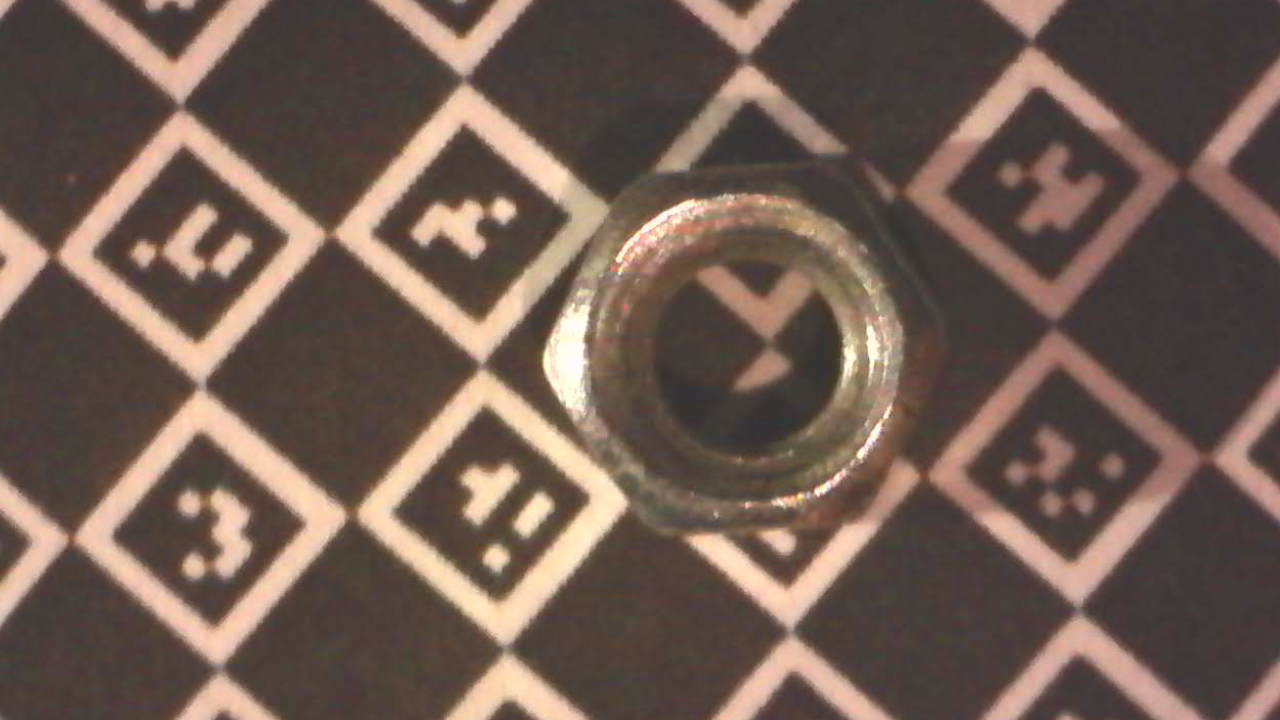Bolt: (540, 159, 954, 538)
